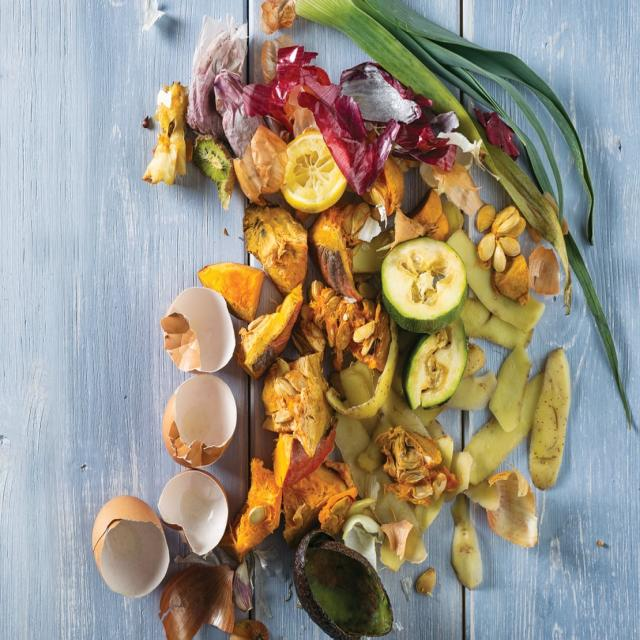Dry: (92, 493, 171, 598), (160, 372, 238, 468), (160, 286, 236, 376), (158, 469, 228, 558)
Wet: (185, 14, 263, 156), (293, 532, 395, 640), (381, 236, 470, 334), (258, 352, 336, 460), (337, 58, 435, 127), (229, 286, 304, 375), (400, 315, 469, 409), (528, 340, 571, 490), (244, 204, 311, 300), (229, 449, 285, 558), (382, 424, 456, 504), (280, 130, 347, 214), (162, 565, 234, 640), (142, 83, 190, 186), (270, 424, 341, 491), (313, 220, 366, 297), (487, 340, 532, 430), (478, 193, 525, 272), (199, 262, 264, 319), (450, 488, 485, 590), (193, 130, 236, 210), (530, 238, 560, 301), (230, 556, 256, 615), (226, 614, 273, 640)
